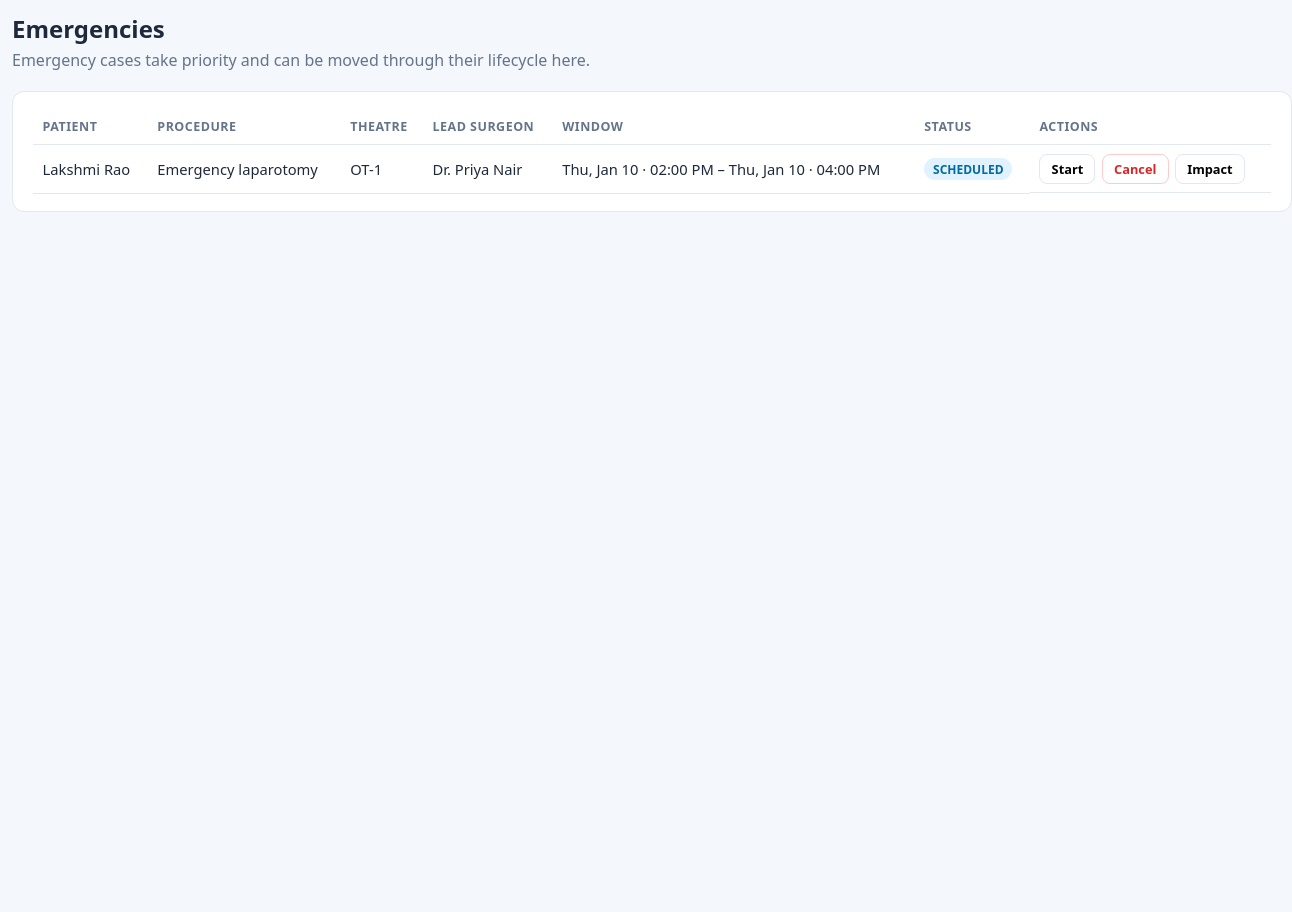
Test: EmergenciesPage › shows an error when rescheduling hits a conflict
Click the button "Impact" at x=1210, y=169, box [1175,154,1245,184]
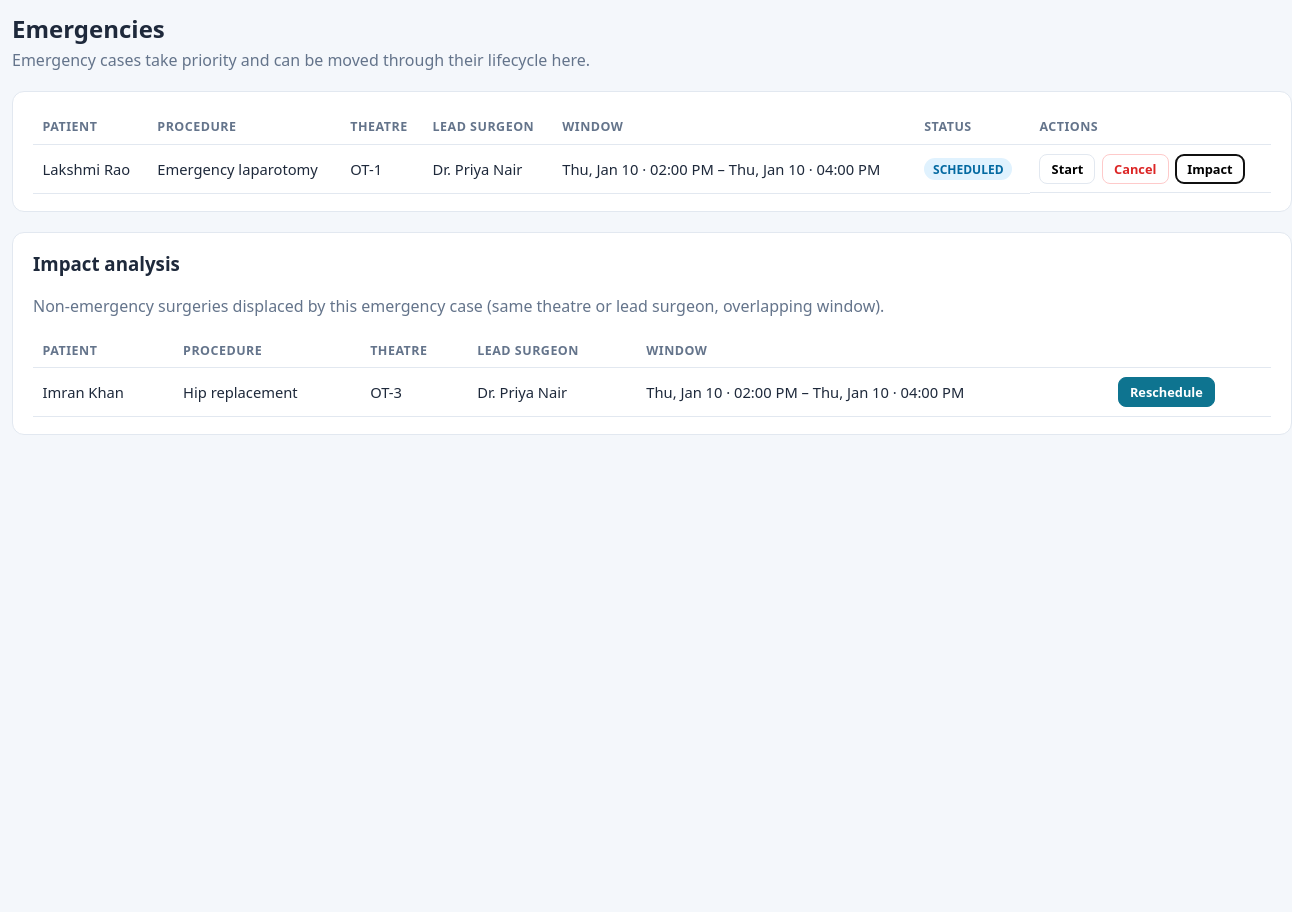
Click the button "Reschedule" at x=1166, y=392, box [1118,377,1215,407]
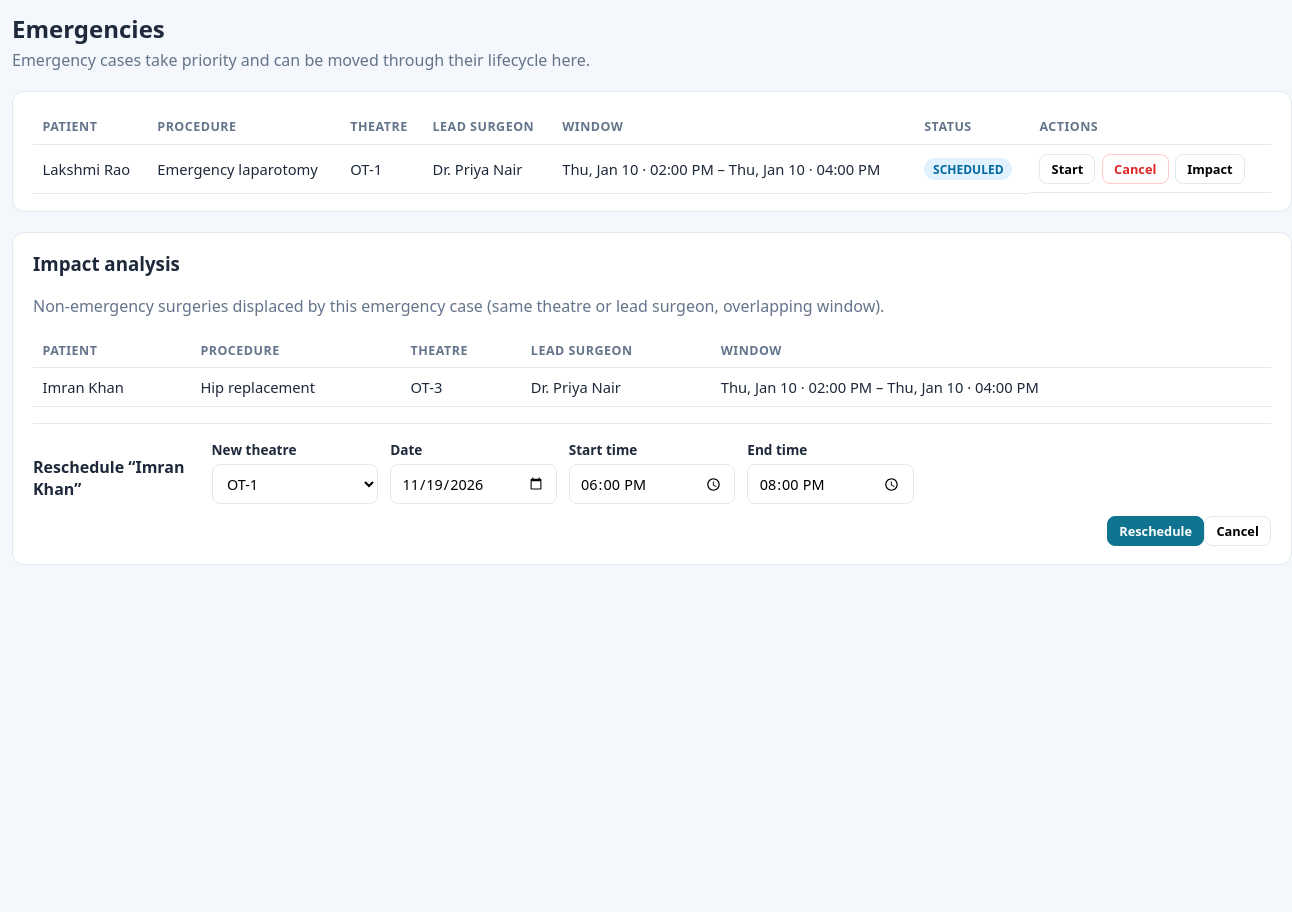
Click the button "Reschedule" at x=1156, y=531, box [1107,516,1204,546]
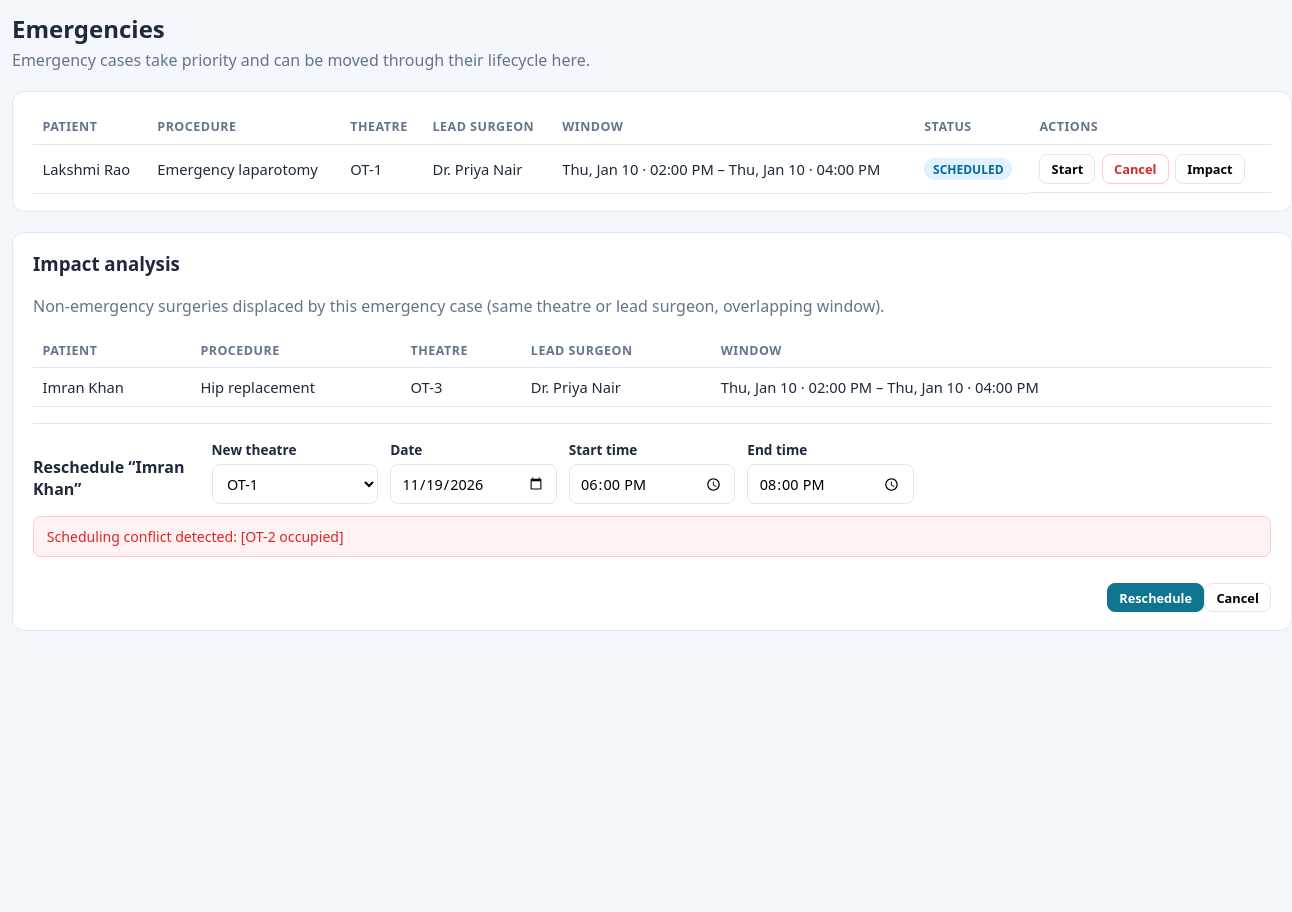
Result: the message shows "Scheduling conflict detected" at [47,527,344,546]
